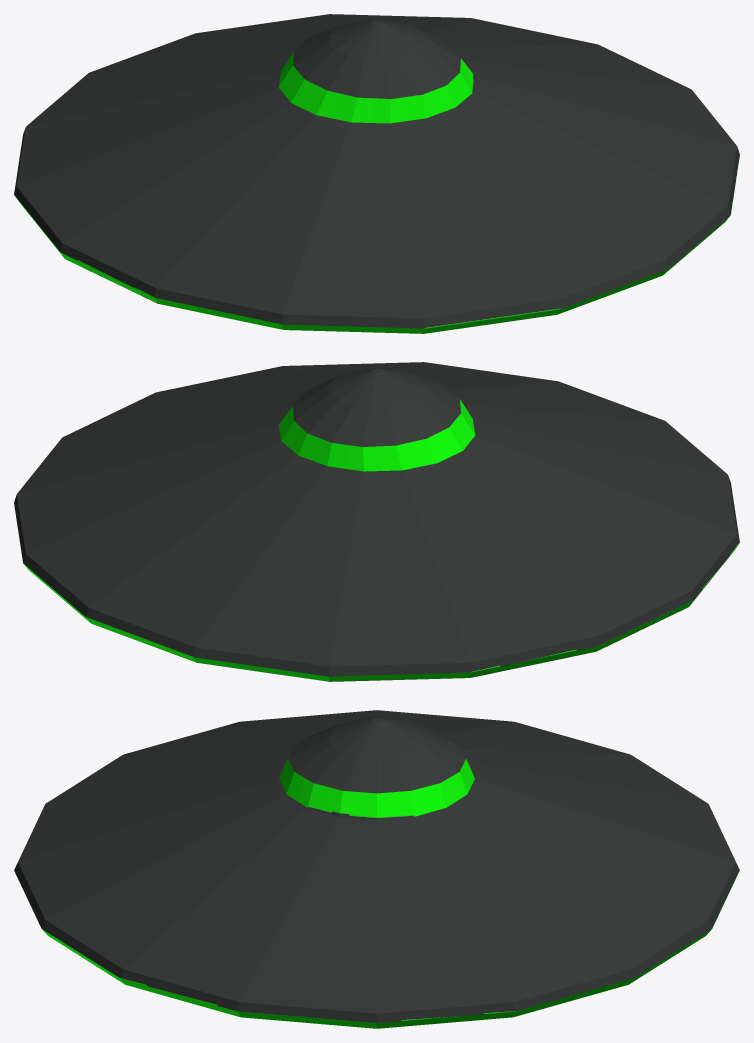
File: Saucer.glb
3 views of the same model, one above another, from view 1: azimuth 30°, elevation 25°; view 2: azimuth 150°, elevation 25°; view 3: azimuth 270°, elevation 25° (orthographic).
Visible parts, largest first — view 1: Cylinder; view 2: Cylinder; view 3: Cylinder.
Part boxes in pixels (<box>): Cylinder: <box>14,14,739,333</box>; Cylinder: <box>14,362,739,681</box>; Cylinder: <box>14,710,739,1028</box>.
Size of the model in its own units: 7.37 by 2.66 by 7.4.
1 material, 1 textured.
